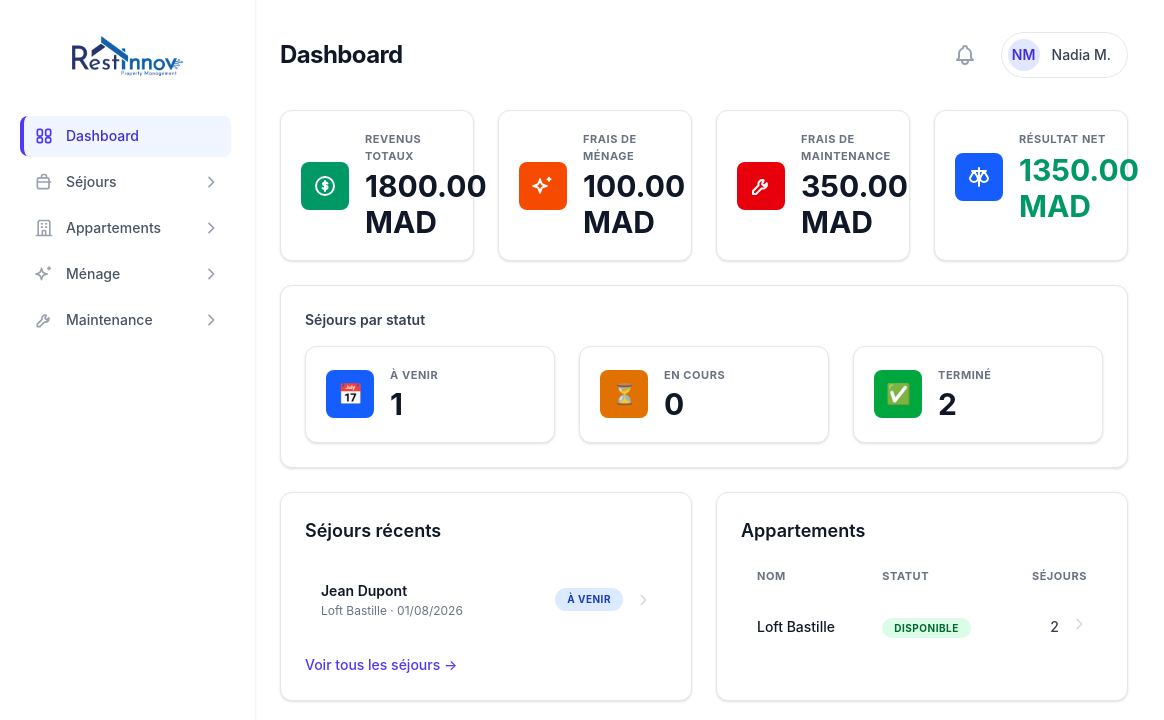
App › déplie le sous-menu Séjours et navigue vers Liste des séjours par défaut
Click the button "Séjours" at (126, 182), box [20,162,231,202]
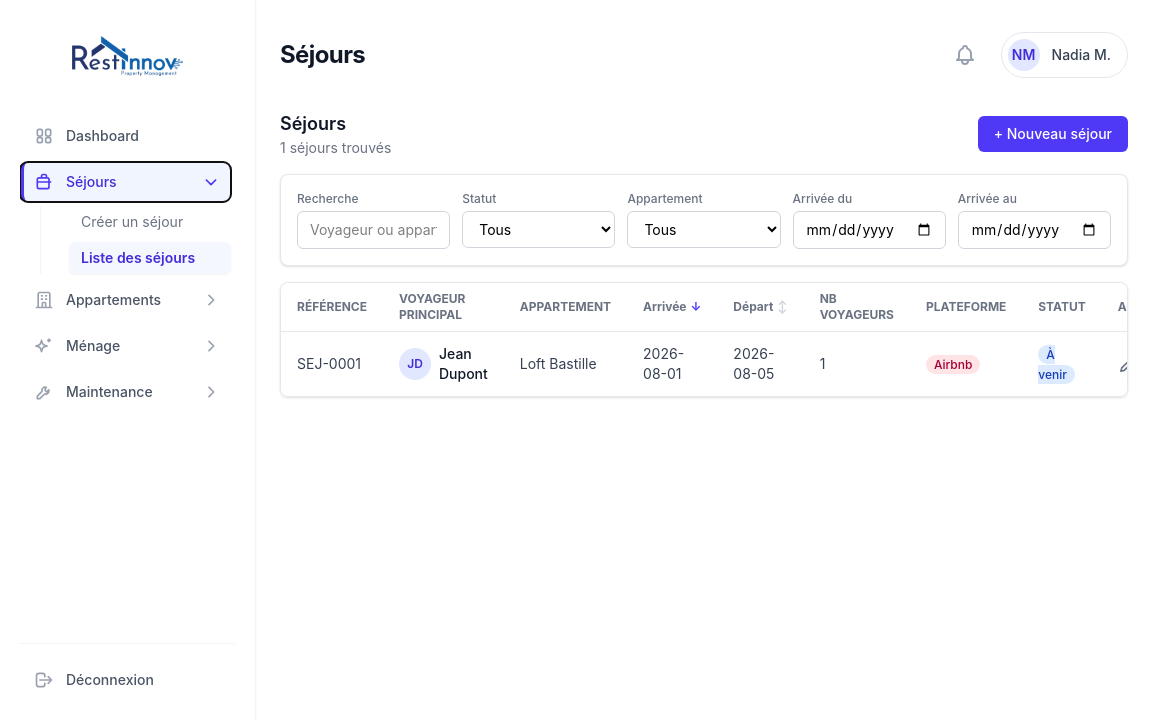
Check: the text "Jean Dupont" is shown, box [439,344,488,384]
Check: the button "Créer un séjour" is shown, box [69,206,231,238]
Check: the button "Liste des séjours" is shown, box [69,242,231,274]
